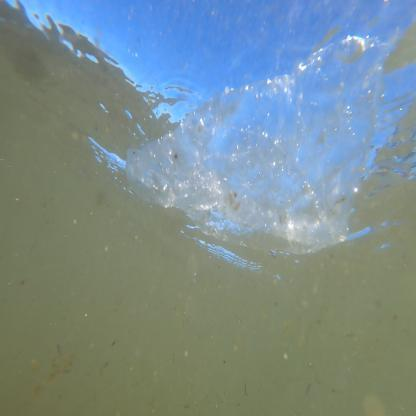Rác: (134, 34, 378, 254)
